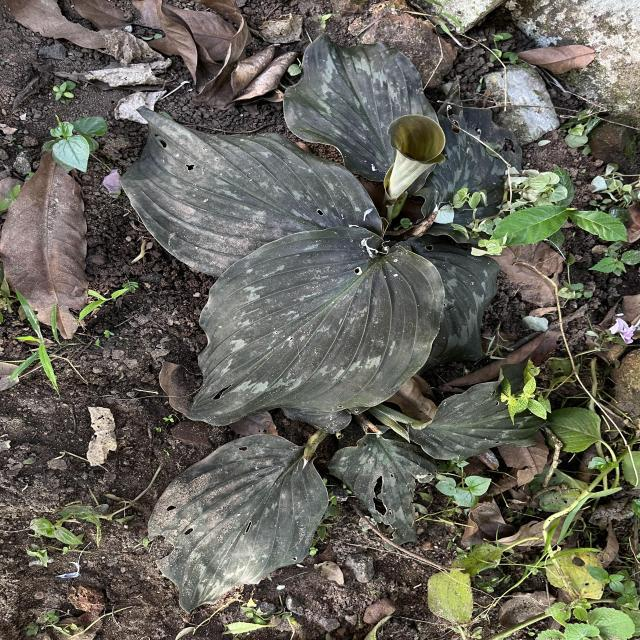Kaempferia galanga linn: (182, 225, 446, 430), (118, 102, 384, 279), (145, 432, 331, 616), (280, 31, 444, 183)
